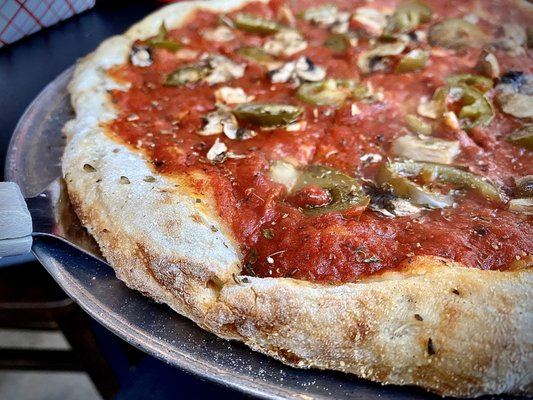sandwich: (58, 0, 533, 390)
